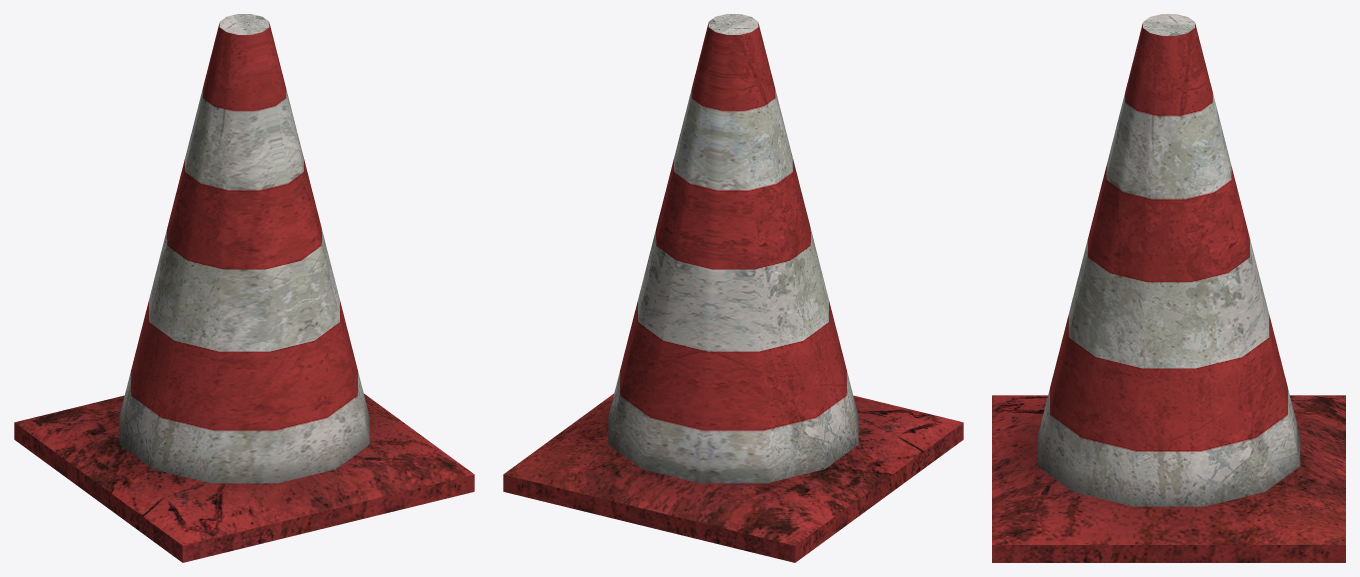
Rendered from Road_barrier1.fbx.
3 renders of one model, left to right at view 1: azimuth 30°, elevation 25°; view 2: azimuth 150°, elevation 25°; view 3: azimuth 270°, elevation 25°, orthographic. The views are drawn at different scales.
Parts seen in each view (by area): view 1: polySurface1; view 2: polySurface1; view 3: polySurface1.
Boxes of the visible parts, bbox=[...] form: polySurface1: bbox=[14, 14, 474, 562]; polySurface1: bbox=[503, 14, 963, 562]; polySurface1: bbox=[992, 14, 1345, 562].
Bounding box in the file's own units: 0.5 × 0.7222 × 0.5.
